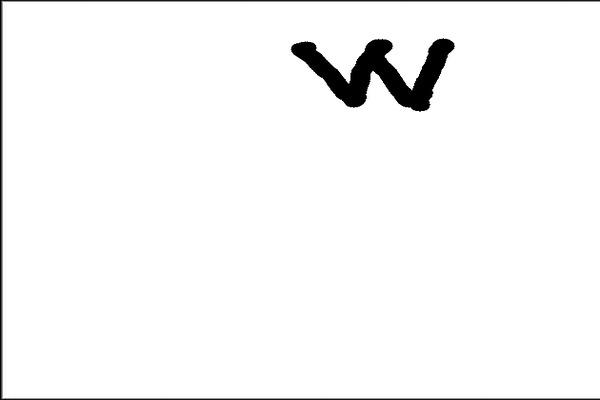w: (272, 26, 488, 125)
